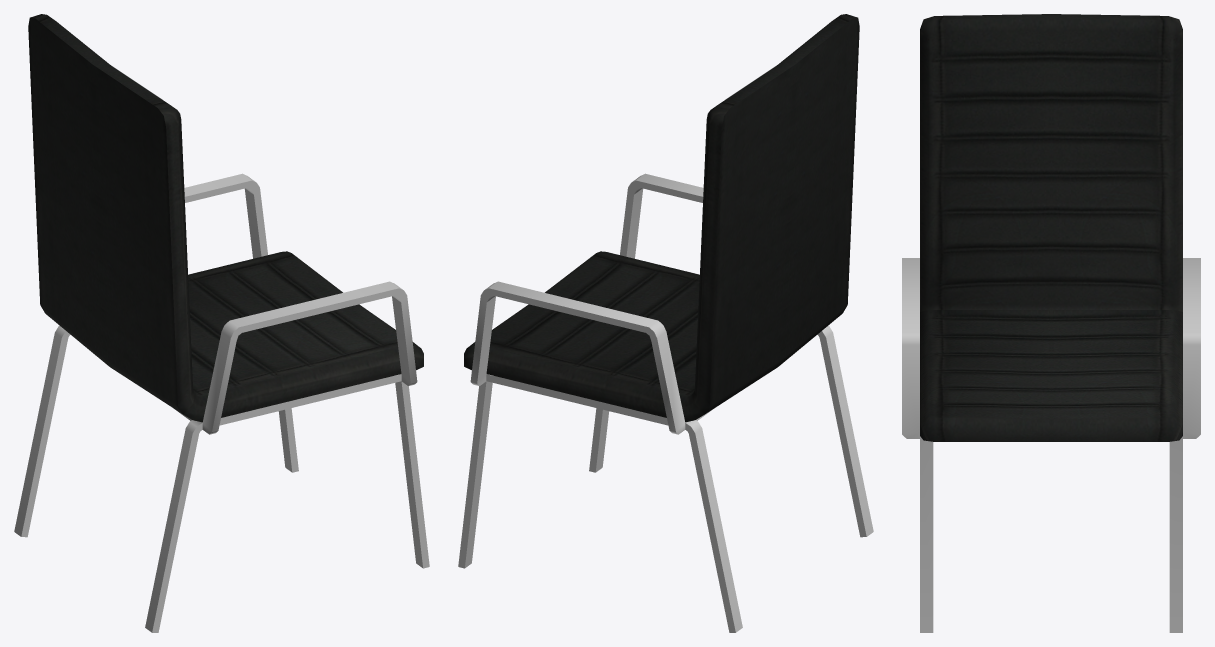
The model's file is Chair_off_small.FBX.
3 renders of one model, left to right at view 1: azimuth 30°, elevation 25°; view 2: azimuth 150°, elevation 25°; view 3: azimuth 270°, elevation 25°, orthographic. The views are drawn at different scales.
Parts seen in each view (by area): view 1: Chair_off_small; view 2: Chair_off_small; view 3: Chair_off_small.
Boxes of the visible parts, x1,y1,x2,y2 form: Chair_off_small: (14, 14, 429, 632); Chair_off_small: (458, 14, 873, 632); Chair_off_small: (902, 14, 1200, 632).
Bounding box in the file's own units: 0.5815 × 1.04 × 0.5677.
